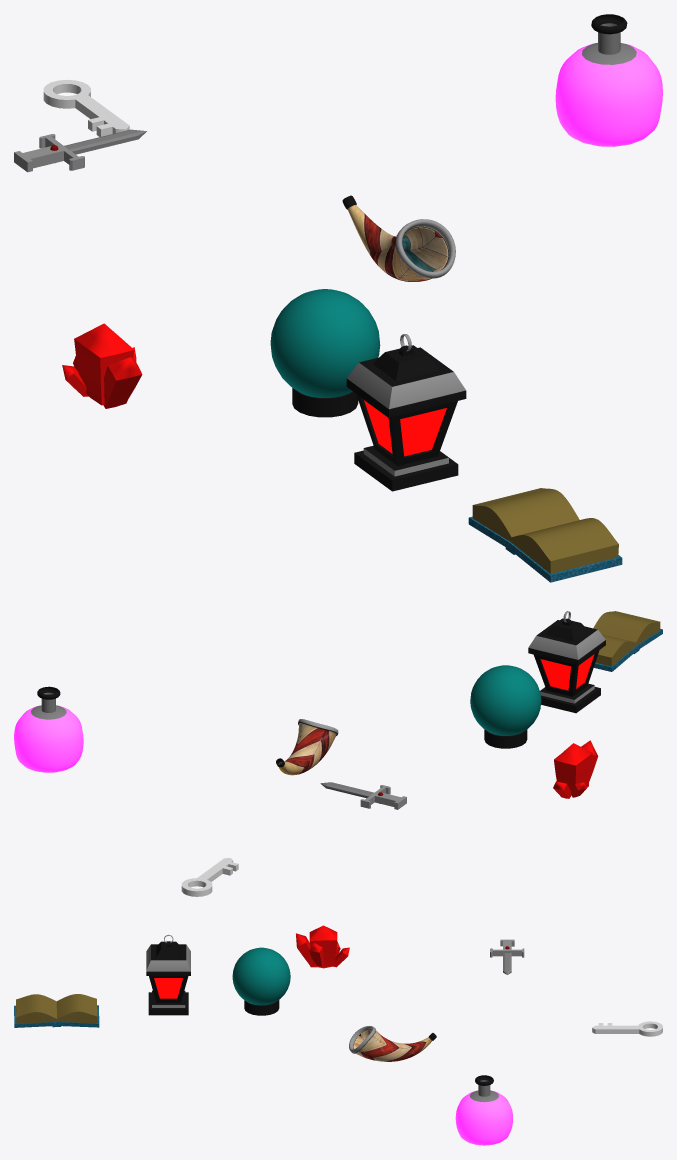
File: Game Items.fbx
3 views of the same model, one above another, from view 1: azimuth 30°, elevation 25°; view 2: azimuth 150°, elevation 25°; view 3: azimuth 270°, elevation 25° (orthographic). The views are drawn at different scales.
Visible parts, largest first — view 1: RedLamp, CrystalBall, Magic Potion, Magic book, Horn, Magic Rock, Dagger, Key; view 2: RedLamp, CrystalBall, Magic Potion, Magic book, Horn, Magic Rock, Key, Dagger; view 3: CrystalBall, RedLamp, Magic Potion, Magic book, Horn, Magic Rock, Key, Dagger.
Boxes of the visible parts, <box> form: RedLamp: <box>346,334,466,491</box>; CrystalBall: <box>270,289,380,417</box>; Magic Potion: <box>555,14,662,146</box>; Magic book: <box>468,488,622,582</box>; Horn: <box>342,195,455,281</box>; Magic Rock: <box>62,323,142,408</box>; Dagger: <box>14,129,146,172</box>; Key: <box>43,79,129,136</box>; RedLamp: <box>528,611,605,713</box>; CrystalBall: <box>470,665,541,748</box>; Magic Potion: <box>14,686,83,772</box>; Magic book: <box>593,611,662,671</box>; Horn: <box>276,719,338,775</box>; Magic Rock: <box>553,740,598,798</box>; Key: <box>181,858,238,896</box>; Dagger: <box>320,782,406,809</box>; CrystalBall: <box>232,947,290,1015</box>; RedLamp: <box>146,934,190,1015</box>; Magic Potion: <box>455,1075,512,1145</box>; Magic book: <box>14,994,99,1027</box>; Horn: <box>349,1026,436,1061</box>; Magic Rock: <box>296,925,349,968</box>; Key: <box>592,1021,662,1036</box>; Dagger: <box>490,939,524,974</box>.
Bounding box in the file's own units: 307 × 56.7 × 444.
Materials: 13 (2 with a texture image).
